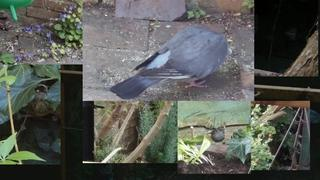sparrow: (207, 128, 224, 144)
wood pigeon: (109, 27, 228, 100)
